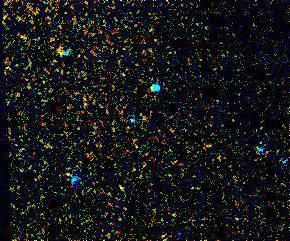star: (63, 111, 93, 141)
